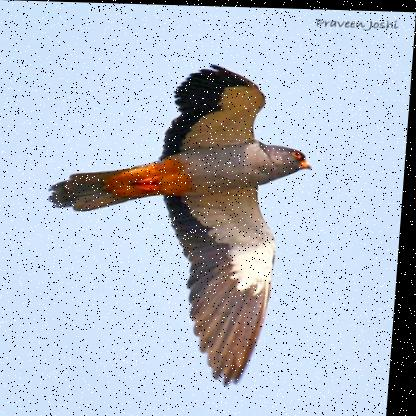Burung: (39, 58, 320, 385)
